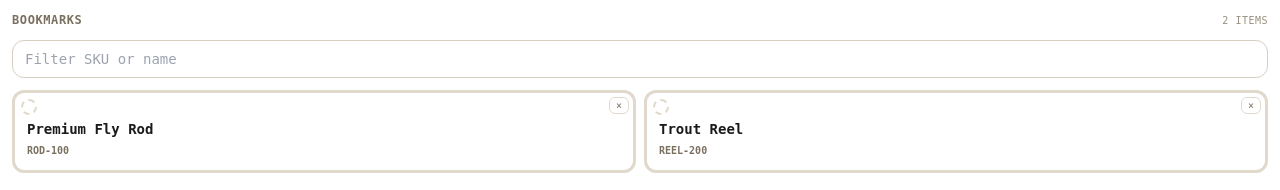
it: <BookmarkPane> › filters tiles by sku or name (case-insensitive)
Type "reel" into the field named "filter bookmarks" at (640,59), box top-left (12, 40), bottom-right (1268, 78)
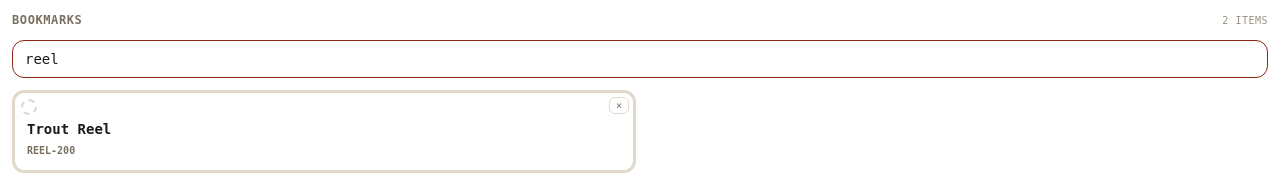
Expected: the text "REEL-200" is shown, top-left (27, 142), bottom-right (75, 158)
Now the button "ROD-100" is gone
